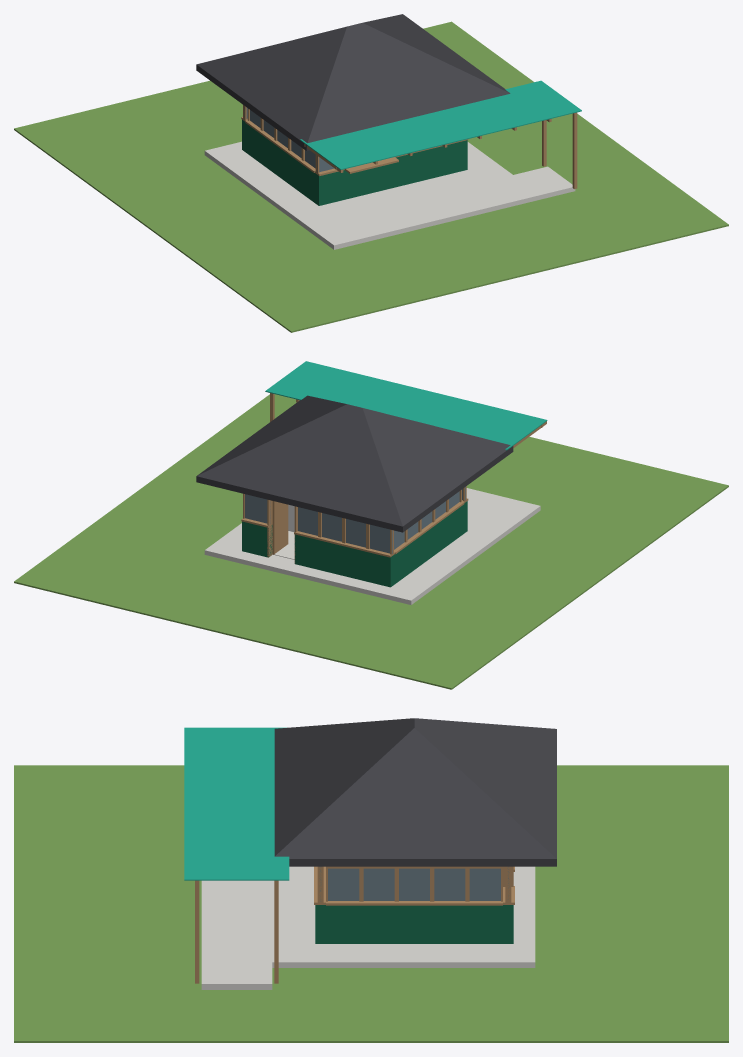
The model's file is tienda.glb.
3 renders of one model, top to bottom at view 1: azimuth 30°, elevation 25°; view 2: azimuth 150°, elevation 25°; view 3: azimuth 270°, elevation 25°, orthographic. The views are drawn at different scales.
Visible parts, largest first — view 1: Bloque para tienda; view 2: Bloque para tienda; view 3: Bloque para tienda.
Boxes of the visible parts, box(x1,y1,x2,y2) form: Bloque para tienda: box(14, 14, 728, 332); Bloque para tienda: box(14, 361, 728, 689); Bloque para tienda: box(14, 718, 728, 1042).
Bounding box in the file's own units: 15.15 × 4.67 × 16.61.
